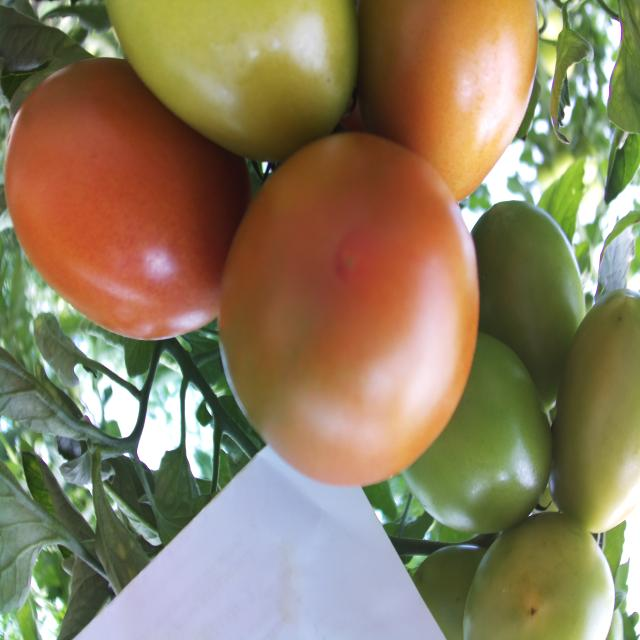yesil: (454, 284, 640, 632)
